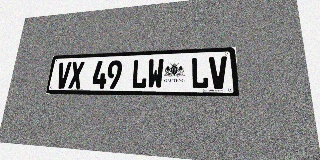4: (92, 61, 108, 89)
9: (106, 60, 123, 89)
L: (191, 57, 209, 89), (131, 59, 148, 89)
V: (209, 56, 228, 89), (55, 62, 72, 89)
W: (147, 59, 164, 89)
X: (68, 61, 85, 89)
